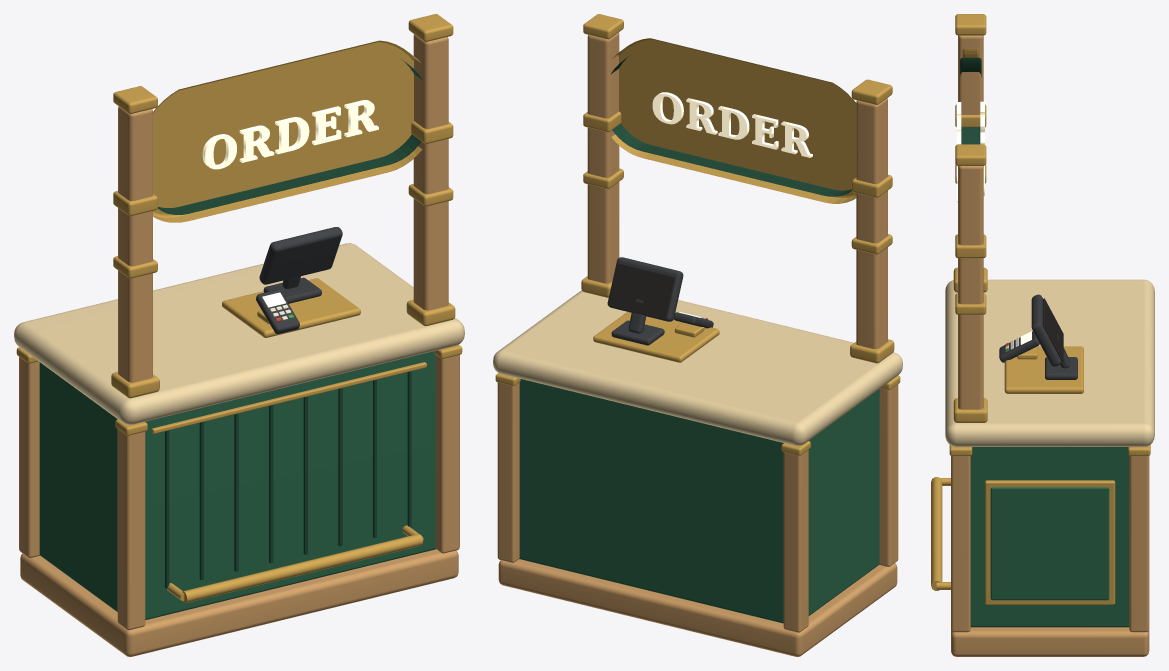
The model's file is order_desk_tier2.glb.
3 views of the same model, side by side, from view 1: azimuth 30°, elevation 25°; view 2: azimuth 150°, elevation 25°; view 3: azimuth 270°, elevation 25° (orthographic). The views are drawn at different scales.
Visible parts, largest first — view 1: Body, Top, SignBorder, Plinth, ArchPost1, ArchPost-1, Pilaster-1-1, Pilaster1-1, Pilaster-11, SignText0, FootRail, Monitor (+18 smaller); view 2: Body, Top, SignBorder, Plinth, ArchPost-1, ArchPost1, Pilaster-11, Pilaster11, Pilaster-1-1, SignText1, MonitorGlass, TillBase (+6 smaller); view 3: Top, EndInset, Body, ArchPost1, Plinth, Pilaster11, Pilaster1-1, EndFrame, TillBase, ArchPost-1, FootRail, Monitor (+10 smaller).
Boxes of the visible parts, x1,y1,x2,y2 form: Body: [39, 351, 435, 619]; Top: [14, 243, 464, 424]; SignBorder: [153, 40, 422, 222]; Plinth: [20, 549, 458, 656]; ArchPost1: [413, 34, 448, 310]; ArchPost-1: [118, 106, 152, 382]; Pilaster-1-1: [117, 424, 145, 630]; Pilaster1-1: [435, 355, 459, 553]; Pilaster-11: [19, 357, 39, 557]; SignText0: [202, 100, 378, 169]; FootRail: [182, 533, 422, 603]; Monitor: [259, 227, 342, 284]; Body: [519, 379, 879, 623]; Top: [493, 290, 902, 445]; SignBorder: [611, 38, 856, 203]; Plinth: [498, 559, 897, 656]; ArchPost-1: [856, 98, 887, 349]; ArchPost1: [587, 32, 619, 283]; Pilaster-11: [783, 445, 808, 632]; Pilaster11: [497, 382, 519, 562]; Pilaster-1-1: [879, 384, 898, 566]; SignText1: [652, 92, 812, 157]; MonitorGlass: [608, 263, 675, 320]; TillBase: [593, 312, 719, 362]; Top: [945, 279, 1154, 446]; EndInset: [990, 487, 1109, 600]; Body: [970, 447, 1129, 627]; ArchPost1: [958, 166, 983, 409]; Plinth: [951, 627, 1149, 656]; Pilaster11: [1129, 446, 1149, 632]; Pilaster1-1: [951, 446, 970, 632]; EndFrame: [985, 480, 1115, 604]; TillBase: [1004, 346, 1083, 393]; ArchPost-1: [958, 35, 983, 114]; FootRail: [931, 477, 942, 590]; Monitor: [1031, 294, 1061, 366].
Bounding box in the file's own units: 1.27 × 1.95 × 0.79.
